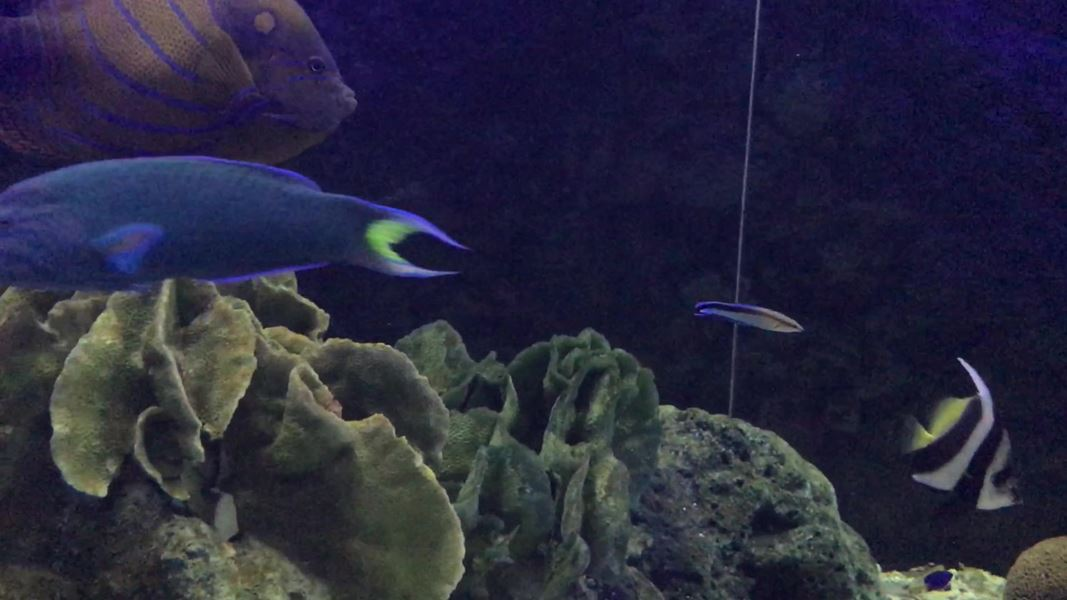Bluesteak cleaner wrasse: (685, 290, 801, 346)
